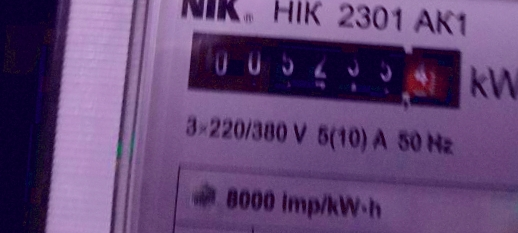0: (243, 44, 265, 78), (210, 45, 231, 77)
2: (308, 46, 332, 81)
3: (341, 46, 367, 81)
4: (409, 52, 434, 90)
5: (374, 48, 399, 86), (277, 44, 298, 79)
screen: (169, 13, 477, 124)
